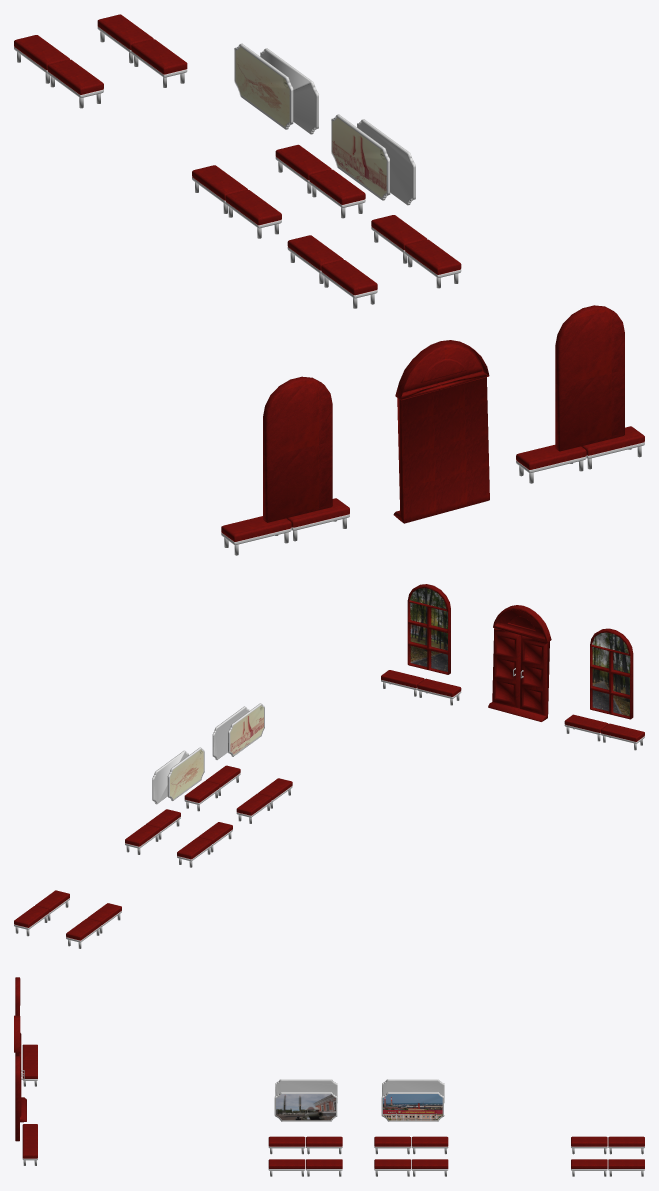
The model's file is 2ploski.glb.
3 views of the same model, one above another, from view 1: azimuth 30°, elevation 25°; view 2: azimuth 150°, elevation 25°; view 3: azimuth 270°, elevation 25° (orthographic). The views are drawn at different scales.
Parts seen in each view (by area): view 1: ploski.001; view 2: ploski.001; view 3: ploski.001.
Boxes of the visible parts, left/top/right/bottom form: ploski.001: left=14, top=14, right=644, bottom=555; ploski.001: left=14, top=584, right=644, bottom=948; ploski.001: left=14, top=977, right=644, bottom=1176.
Bounding box in the file's own units: 18.76 × 6.76 × 41.26.
Materials: 12 (7 with a texture image).
